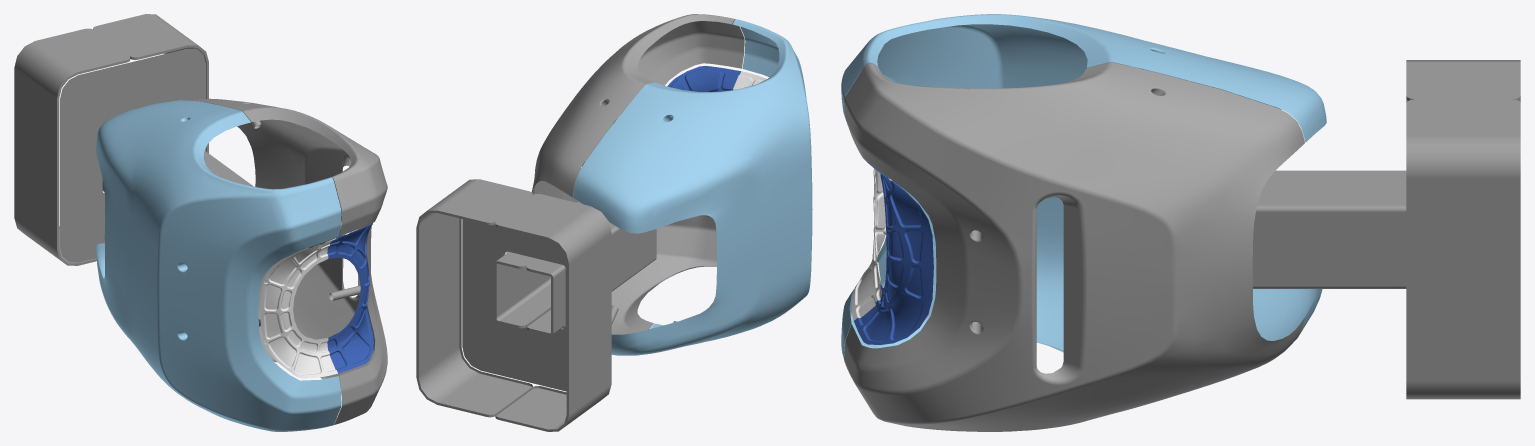
Rendered from TorsoFixedBaseWithoutSpine.obj.
3 renders of one model, left to right at view 1: azimuth 30°, elevation 25°; view 2: azimuth 150°, elevation 25°; view 3: azimuth 270°, elevation 25°, orthographic. The views are drawn at different scales.
Visible parts, largest first — view 1: Body1, Body2, Body1:5, Body1:6, Body1:2, Body1:1, Body2:1, Body1:4; view 2: Body1, Body2, Body1:6, Body2:1, Body1:5, Body1:3, Body1:4, Body1:1; view 3: Body2, Body2:1, Body1, Body1:4, Body1:1, Body1:6, Body1:3, Body1:2.
Boxes of the visible parts, x1,y1,x2,y2 form: Body1: (96,100,341,431); Body2: (183,98,387,425); Body1:5: (60,48,205,262); Body1:6: (14,28,130,265); Body1:2: (260,238,337,378); Body1:1: (327,224,373,373); Body2:1: (93,14,208,153); Body1:4: (203,151,252,186); Body1: (573,19,812,355); Body2: (531,14,744,334); Body1:6: (495,194,611,431); Body2:1: (416,179,532,417); Body1:5: (462,219,566,391); Body1:3: (526,222,656,335); Body1:4: (494,201,582,328); Body1:1: (667,65,740,91); Body2: (844,62,1304,431); Body2:1: (1406,99,1520,399); Body1: (841,14,1326,358); Body1:4: (1252,188,1406,288); Body1:1: (854,160,933,344); Body1:6: (1406,60,1520,102); Body1:3: (1263,170,1406,188); Body1:2: (851,168,889,320).
Bounding box in the file's own units: 0.2962 × 0.3301 × 0.5933.
